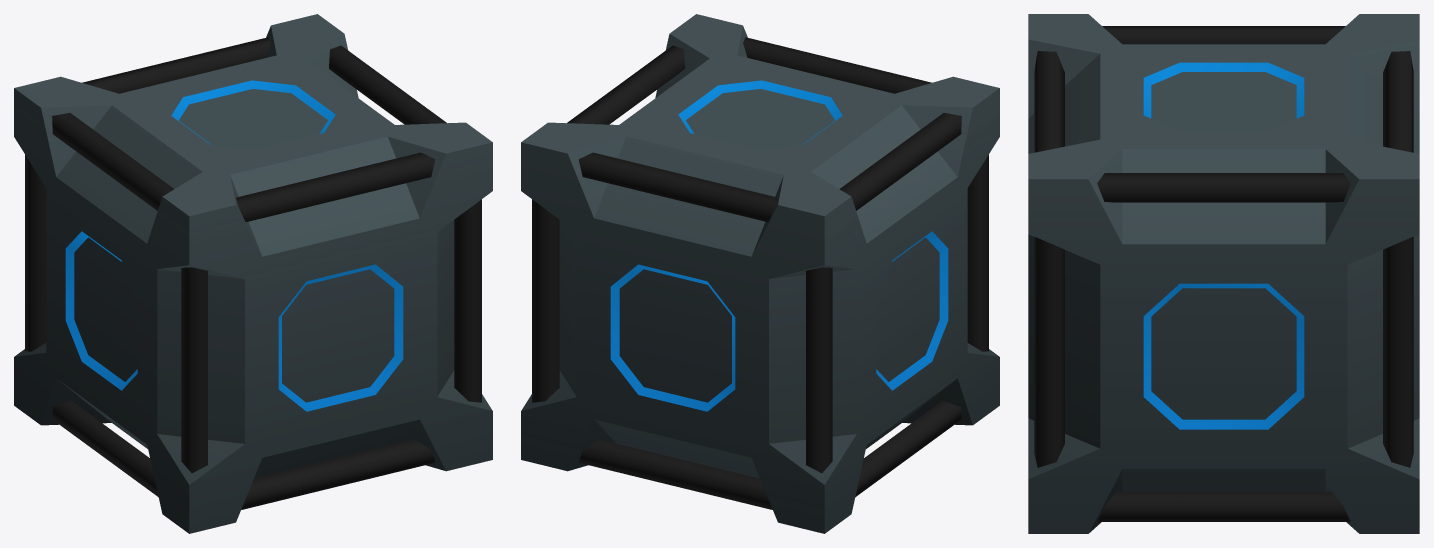
3 renders of one model, left to right at view 1: azimuth 30°, elevation 25°; view 2: azimuth 150°, elevation 25°; view 3: azimuth 270°, elevation 25°, orthographic. The views are drawn at different scales.
Parts seen in each view (by area): view 1: Box_010; view 2: Box_010; view 3: Box_010.
Boxes of the visible parts, x1=… form: Box_010: x1=14, y1=14, x2=492, y2=533; Box_010: x1=521, y1=14, x2=999, y2=533; Box_010: x1=1028, y1=14, x2=1419, y2=533.
Bounding box in the file's own units: 0.6 × 0.6 × 0.6.
3 materials, 2 textured.
